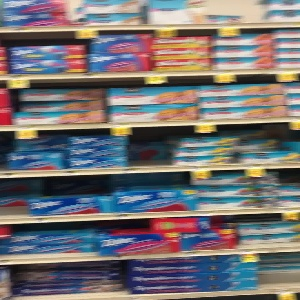void: (127, 126, 175, 164), (260, 252, 300, 288), (1, 177, 29, 219)
